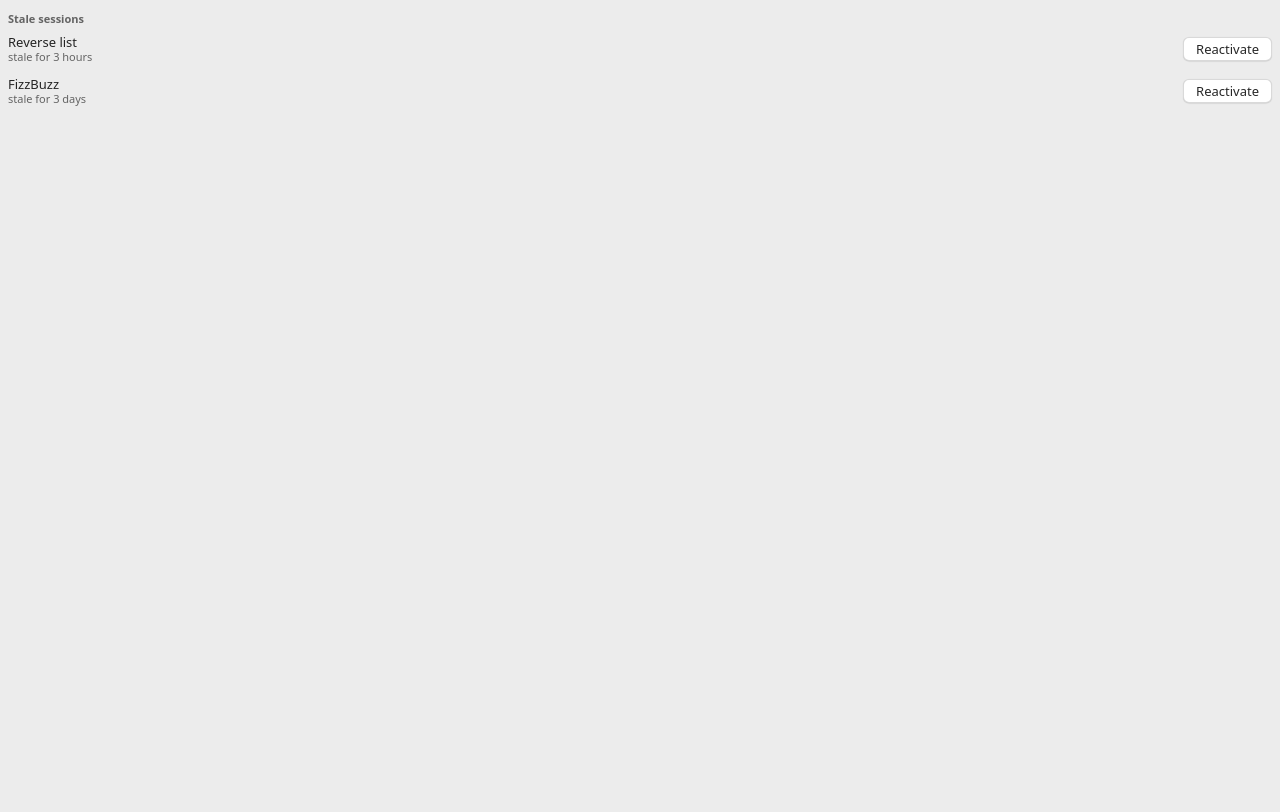
Test case: StaleSessionsList › also removes the row when the session was no longer stale (409)
Expected: the link "Reverse list stale for 3 hours" is shown, [8,33,92,64]
Click the button with aria-label "Reactivate FizzBuzz".
click(1228, 91)  # box [1183,79,1272,103]
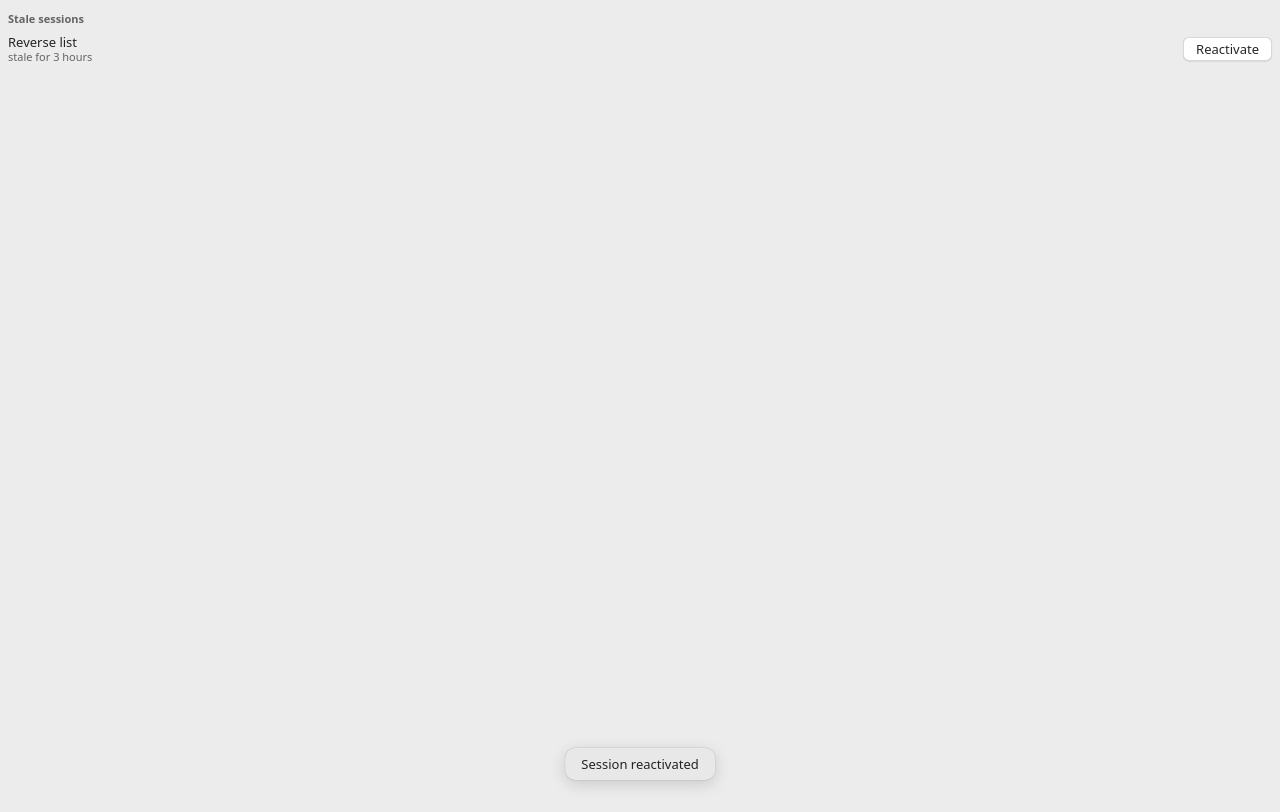
Now the link "FizzBuzz" is gone
